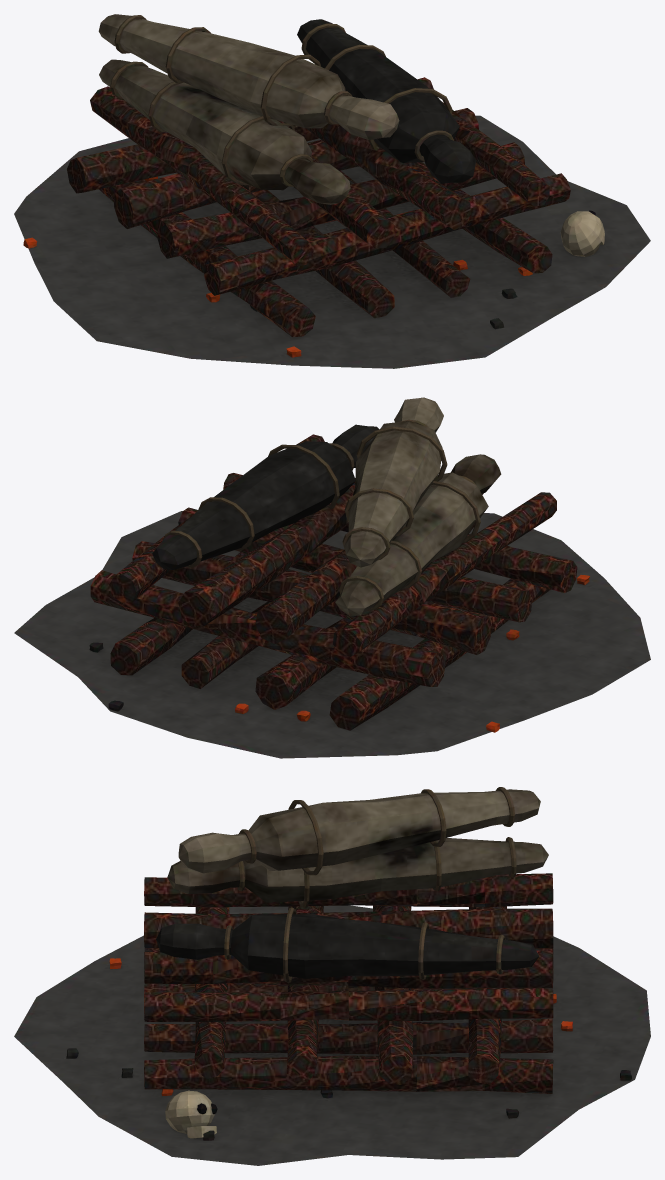
Rendered from corpse_pyre.glb.
3 views of the same model, one above another, from view 1: azimuth 30°, elevation 25°; view 2: azimuth 150°, elevation 25°; view 3: azimuth 270°, elevation 25° (orthographic). The views are drawn at different scales.
Parts seen in each view (by area): view 1: corpse_pyre; view 2: corpse_pyre; view 3: corpse_pyre.
Boxes of the visible parts, bbox=[...] form: corpse_pyre: bbox=[14, 14, 650, 368]; corpse_pyre: bbox=[14, 397, 650, 758]; corpse_pyre: bbox=[14, 787, 650, 1165].
Size of the model in its own units: 2.76 by 1.06 by 2.81.
1 material, 1 textured.
